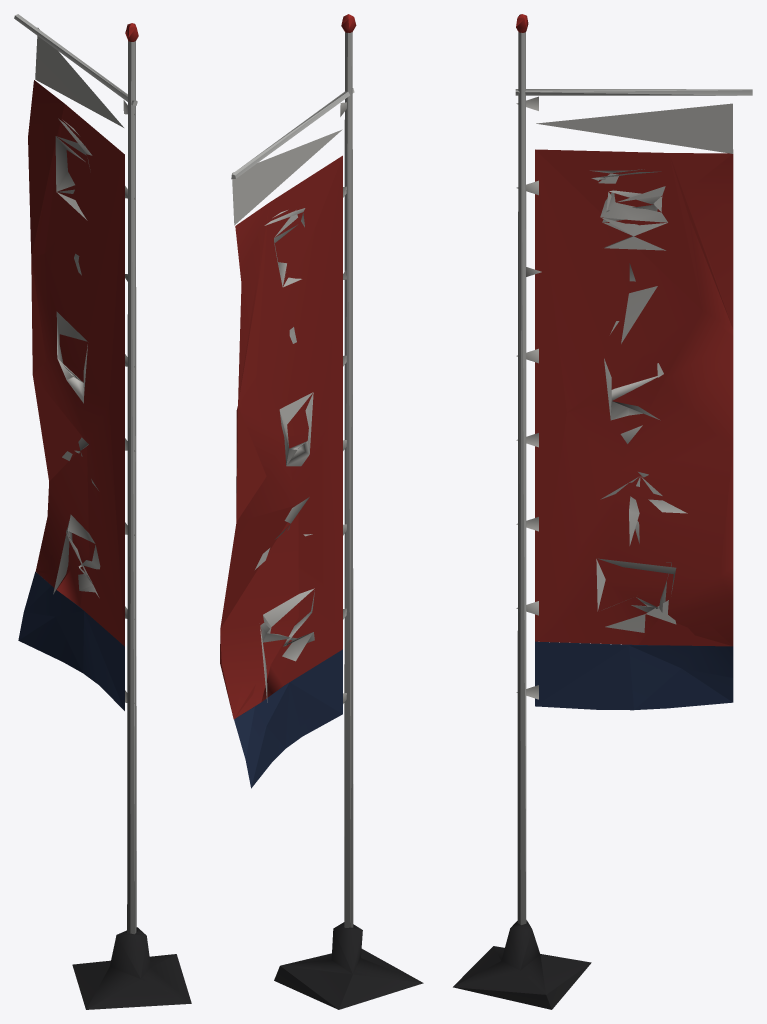
The model's file is SM_NoboriBanner.glb.
3 renders of one model, left to right at view 1: azimuth 30°, elevation 25°; view 2: azimuth 150°, elevation 25°; view 3: azimuth 270°, elevation 25°, orthographic.
Visible parts, largest first — view 1: SM_NoboriBanner; view 2: SM_NoboriBanner; view 3: SM_NoboriBanner.
Boxes of the visible parts, x1=… form: SM_NoboriBanner: x1=14, y1=14, x2=191, y2=1009; SM_NoboriBanner: x1=220, y1=14, x2=423, y2=1009; SM_NoboriBanner: x1=453, y1=14, x2=752, y2=1009.
Bounding box in the file's own units: 0.4338 × 3.34 × 0.938.
